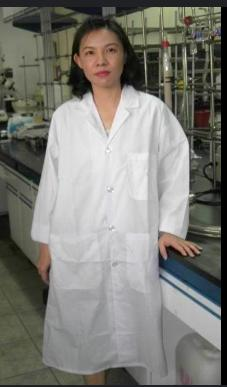lab_coat: (29, 83, 192, 380)
